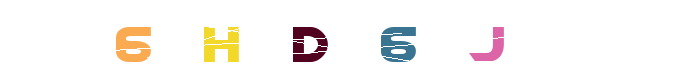6: (135, 0, 215, 80), (356, 0, 436, 80)
D: (300, 0, 380, 80)
H: (267, 0, 347, 80)
J: (443, 0, 523, 80)
